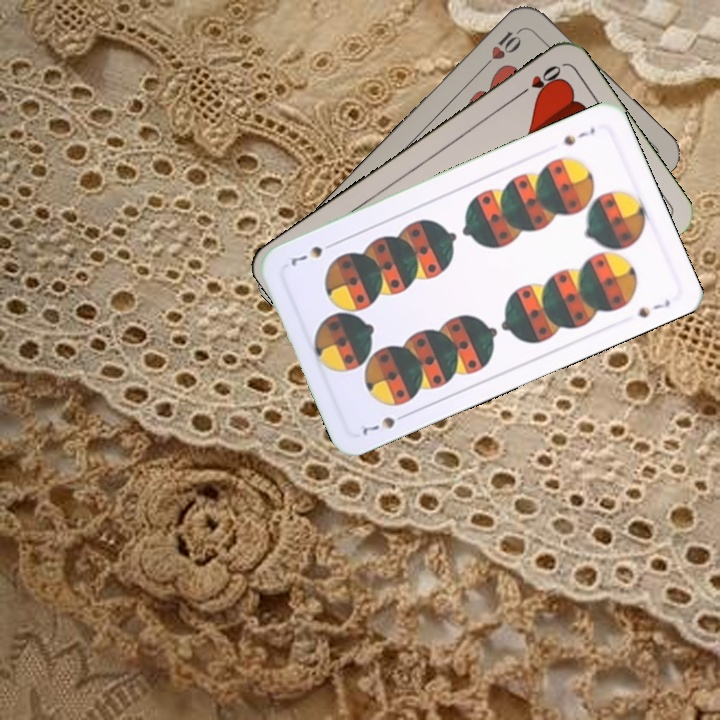H10: (479, 24, 525, 71)
HO: (513, 61, 564, 100)
S7: (358, 409, 412, 437), (559, 123, 598, 148)
